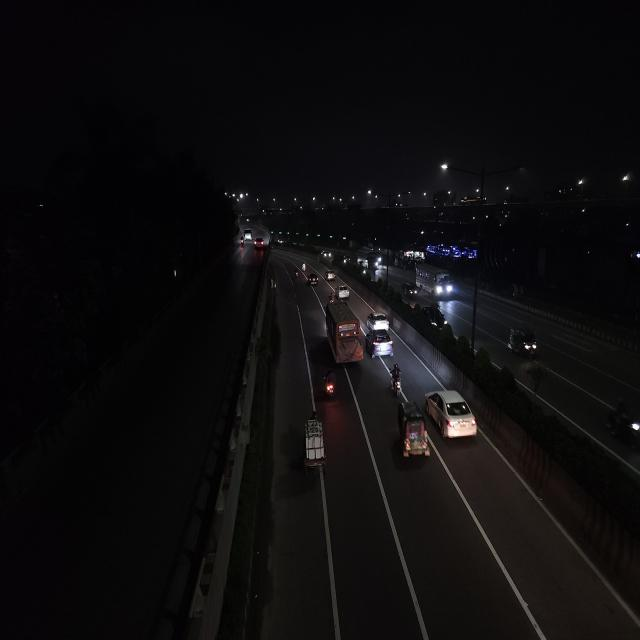bus: (324, 300, 364, 369), (415, 264, 454, 300)
car: (425, 385, 479, 445), (505, 323, 539, 362), (366, 327, 395, 359), (419, 303, 449, 332), (365, 309, 391, 332), (335, 283, 351, 302), (307, 272, 319, 287), (320, 248, 332, 262), (326, 268, 336, 283), (254, 237, 264, 250)
cng: (394, 397, 430, 463), (402, 280, 419, 300)
motorcycle: (603, 394, 640, 453), (321, 365, 339, 402), (387, 360, 405, 395), (302, 259, 308, 271), (293, 268, 300, 278), (240, 235, 244, 248)
rickshaw: (300, 441, 328, 478)
